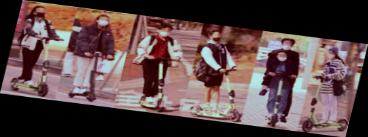helmet: (298, 44, 367, 136)
multiple: (250, 35, 311, 129)
nonhelmet: (183, 28, 262, 123), (2, 3, 73, 98), (123, 20, 191, 112), (65, 12, 126, 103)
